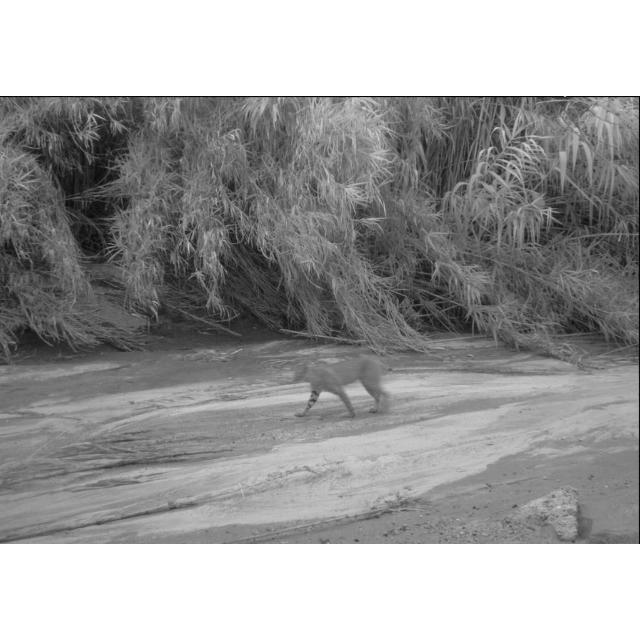animals: (295, 357, 393, 418)
